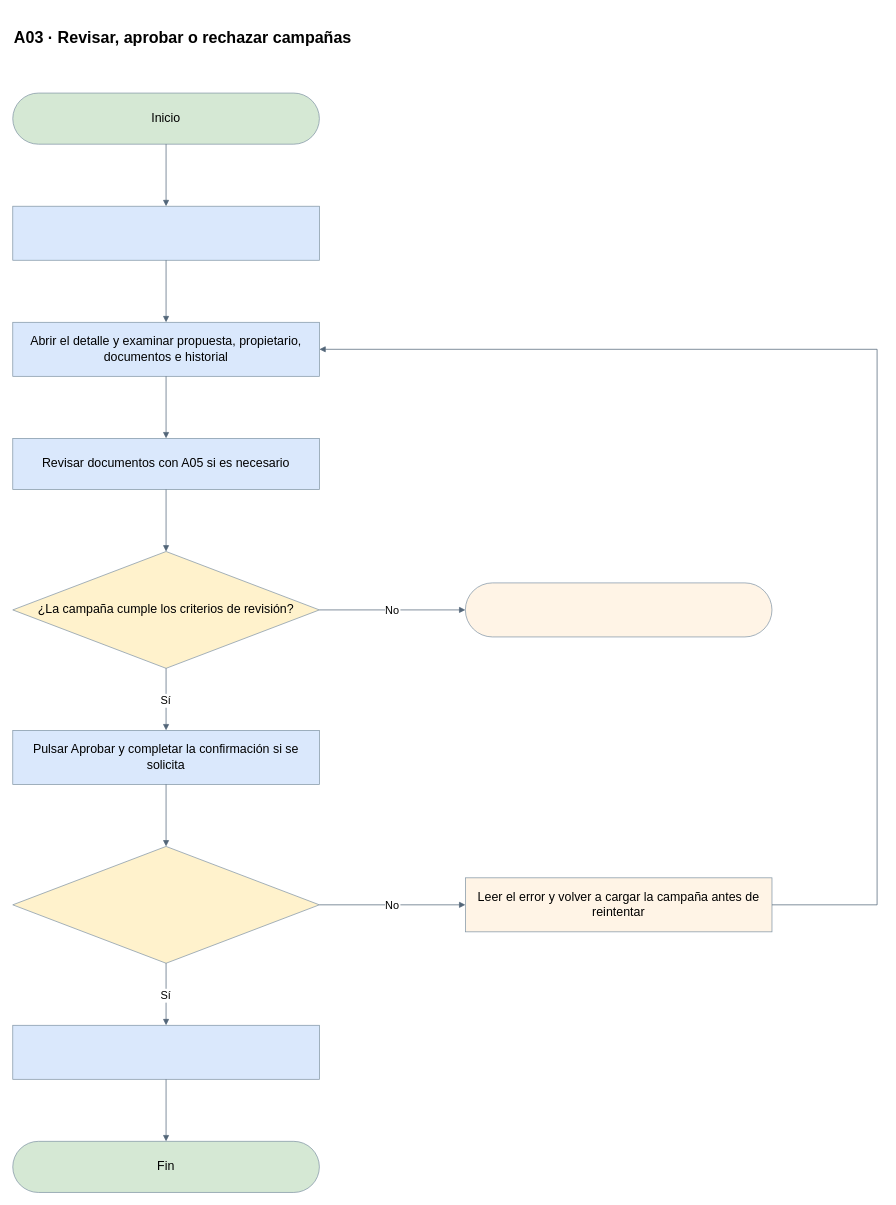
Some shapes in this 896 by 1205 pixel diagram are drawn without their labels. Here are the shapes that lost their labels. From the top down, the box of each, then its label:
(12, 205, 319, 260): Buscar por título o emprendedor con Enter; recorrer las páginas de pendientes
(465, 582, 772, 637): Escribir motivo, rechazar y notificar al emprendedor para corregir y reenviar
(12, 846, 319, 963): ¿Se registró la aprobación?
(12, 1025, 319, 1079): La campaña queda Aprobada; el emprendedor debe lanzarla en E05
